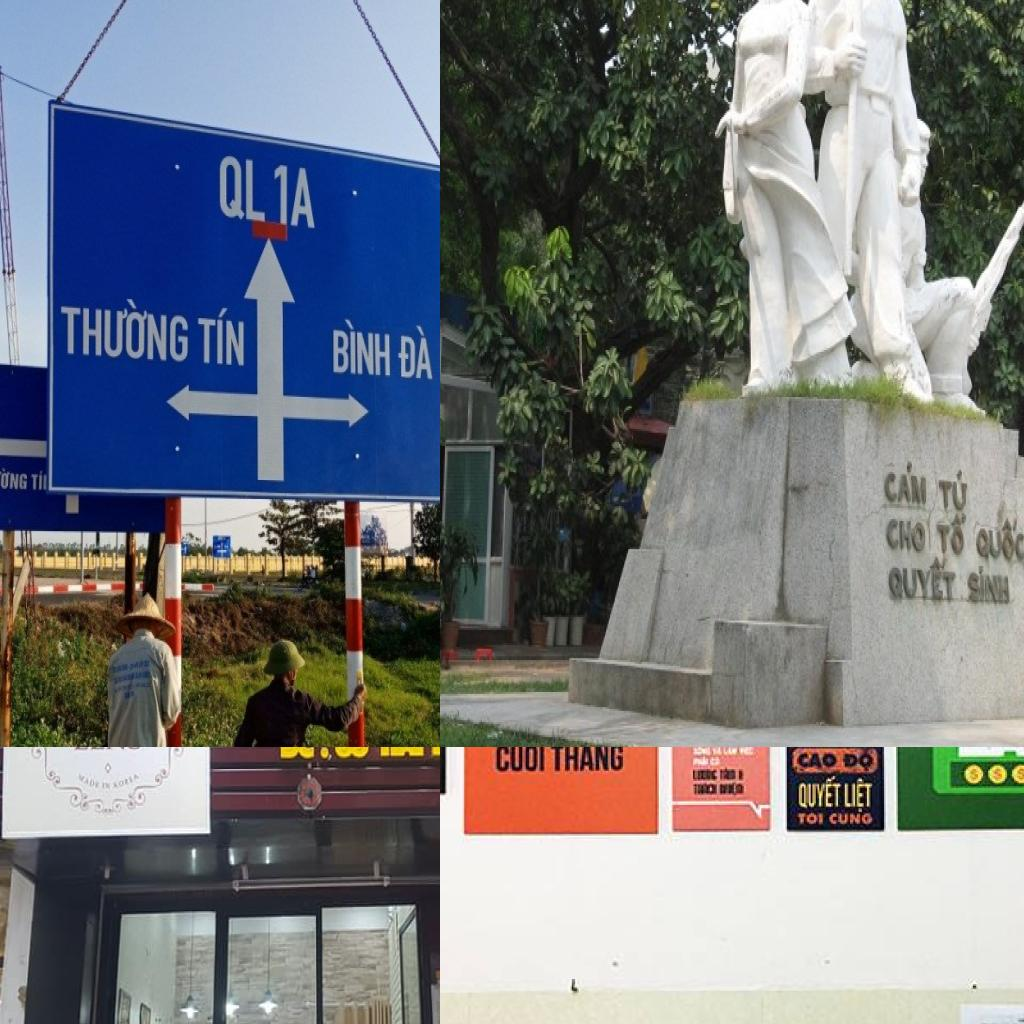text: (60, 294, 189, 364), (220, 155, 318, 232), (334, 318, 392, 378), (887, 556, 958, 604), (198, 306, 245, 368), (976, 515, 1024, 565), (884, 459, 931, 510), (551, 747, 624, 774), (884, 515, 929, 557), (936, 466, 971, 516), (934, 512, 970, 560), (799, 776, 843, 810), (495, 747, 546, 774), (843, 778, 876, 814), (955, 747, 1024, 760), (277, 747, 331, 763), (797, 752, 840, 769), (843, 750, 876, 772), (0, 467, 28, 492), (113, 770, 142, 794), (828, 812, 874, 825), (76, 772, 103, 792), (332, 747, 370, 761), (70, 747, 145, 754), (380, 747, 426, 758), (797, 812, 826, 825), (31, 470, 44, 492), (102, 780, 112, 792)
